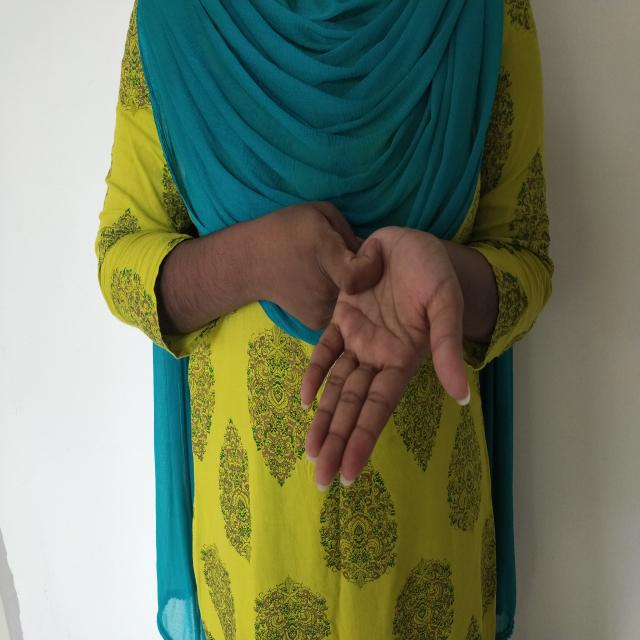R: (249, 182, 494, 512)
